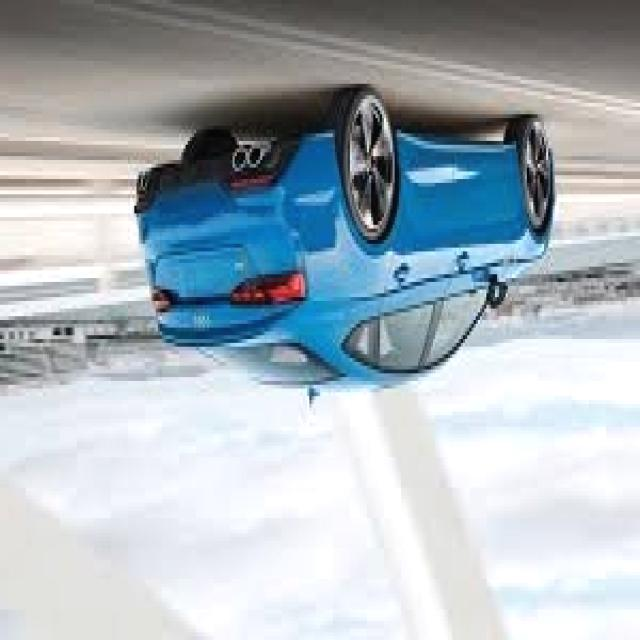blue: (138, 91, 556, 401)
